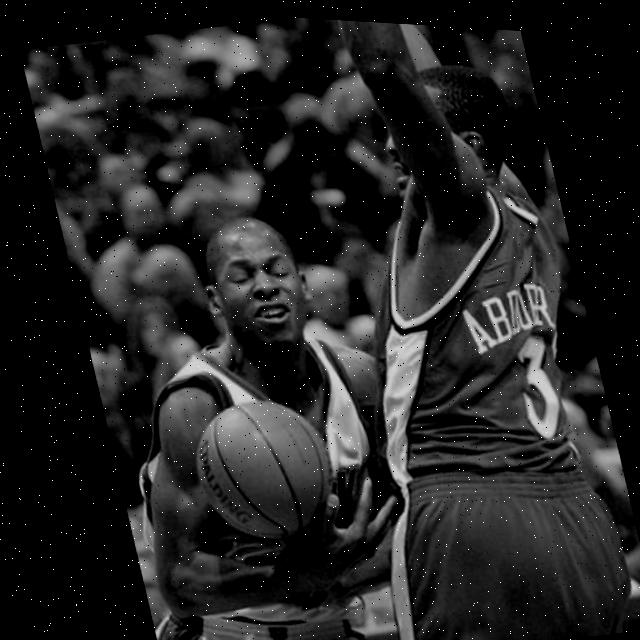face: (198, 209, 346, 368)
